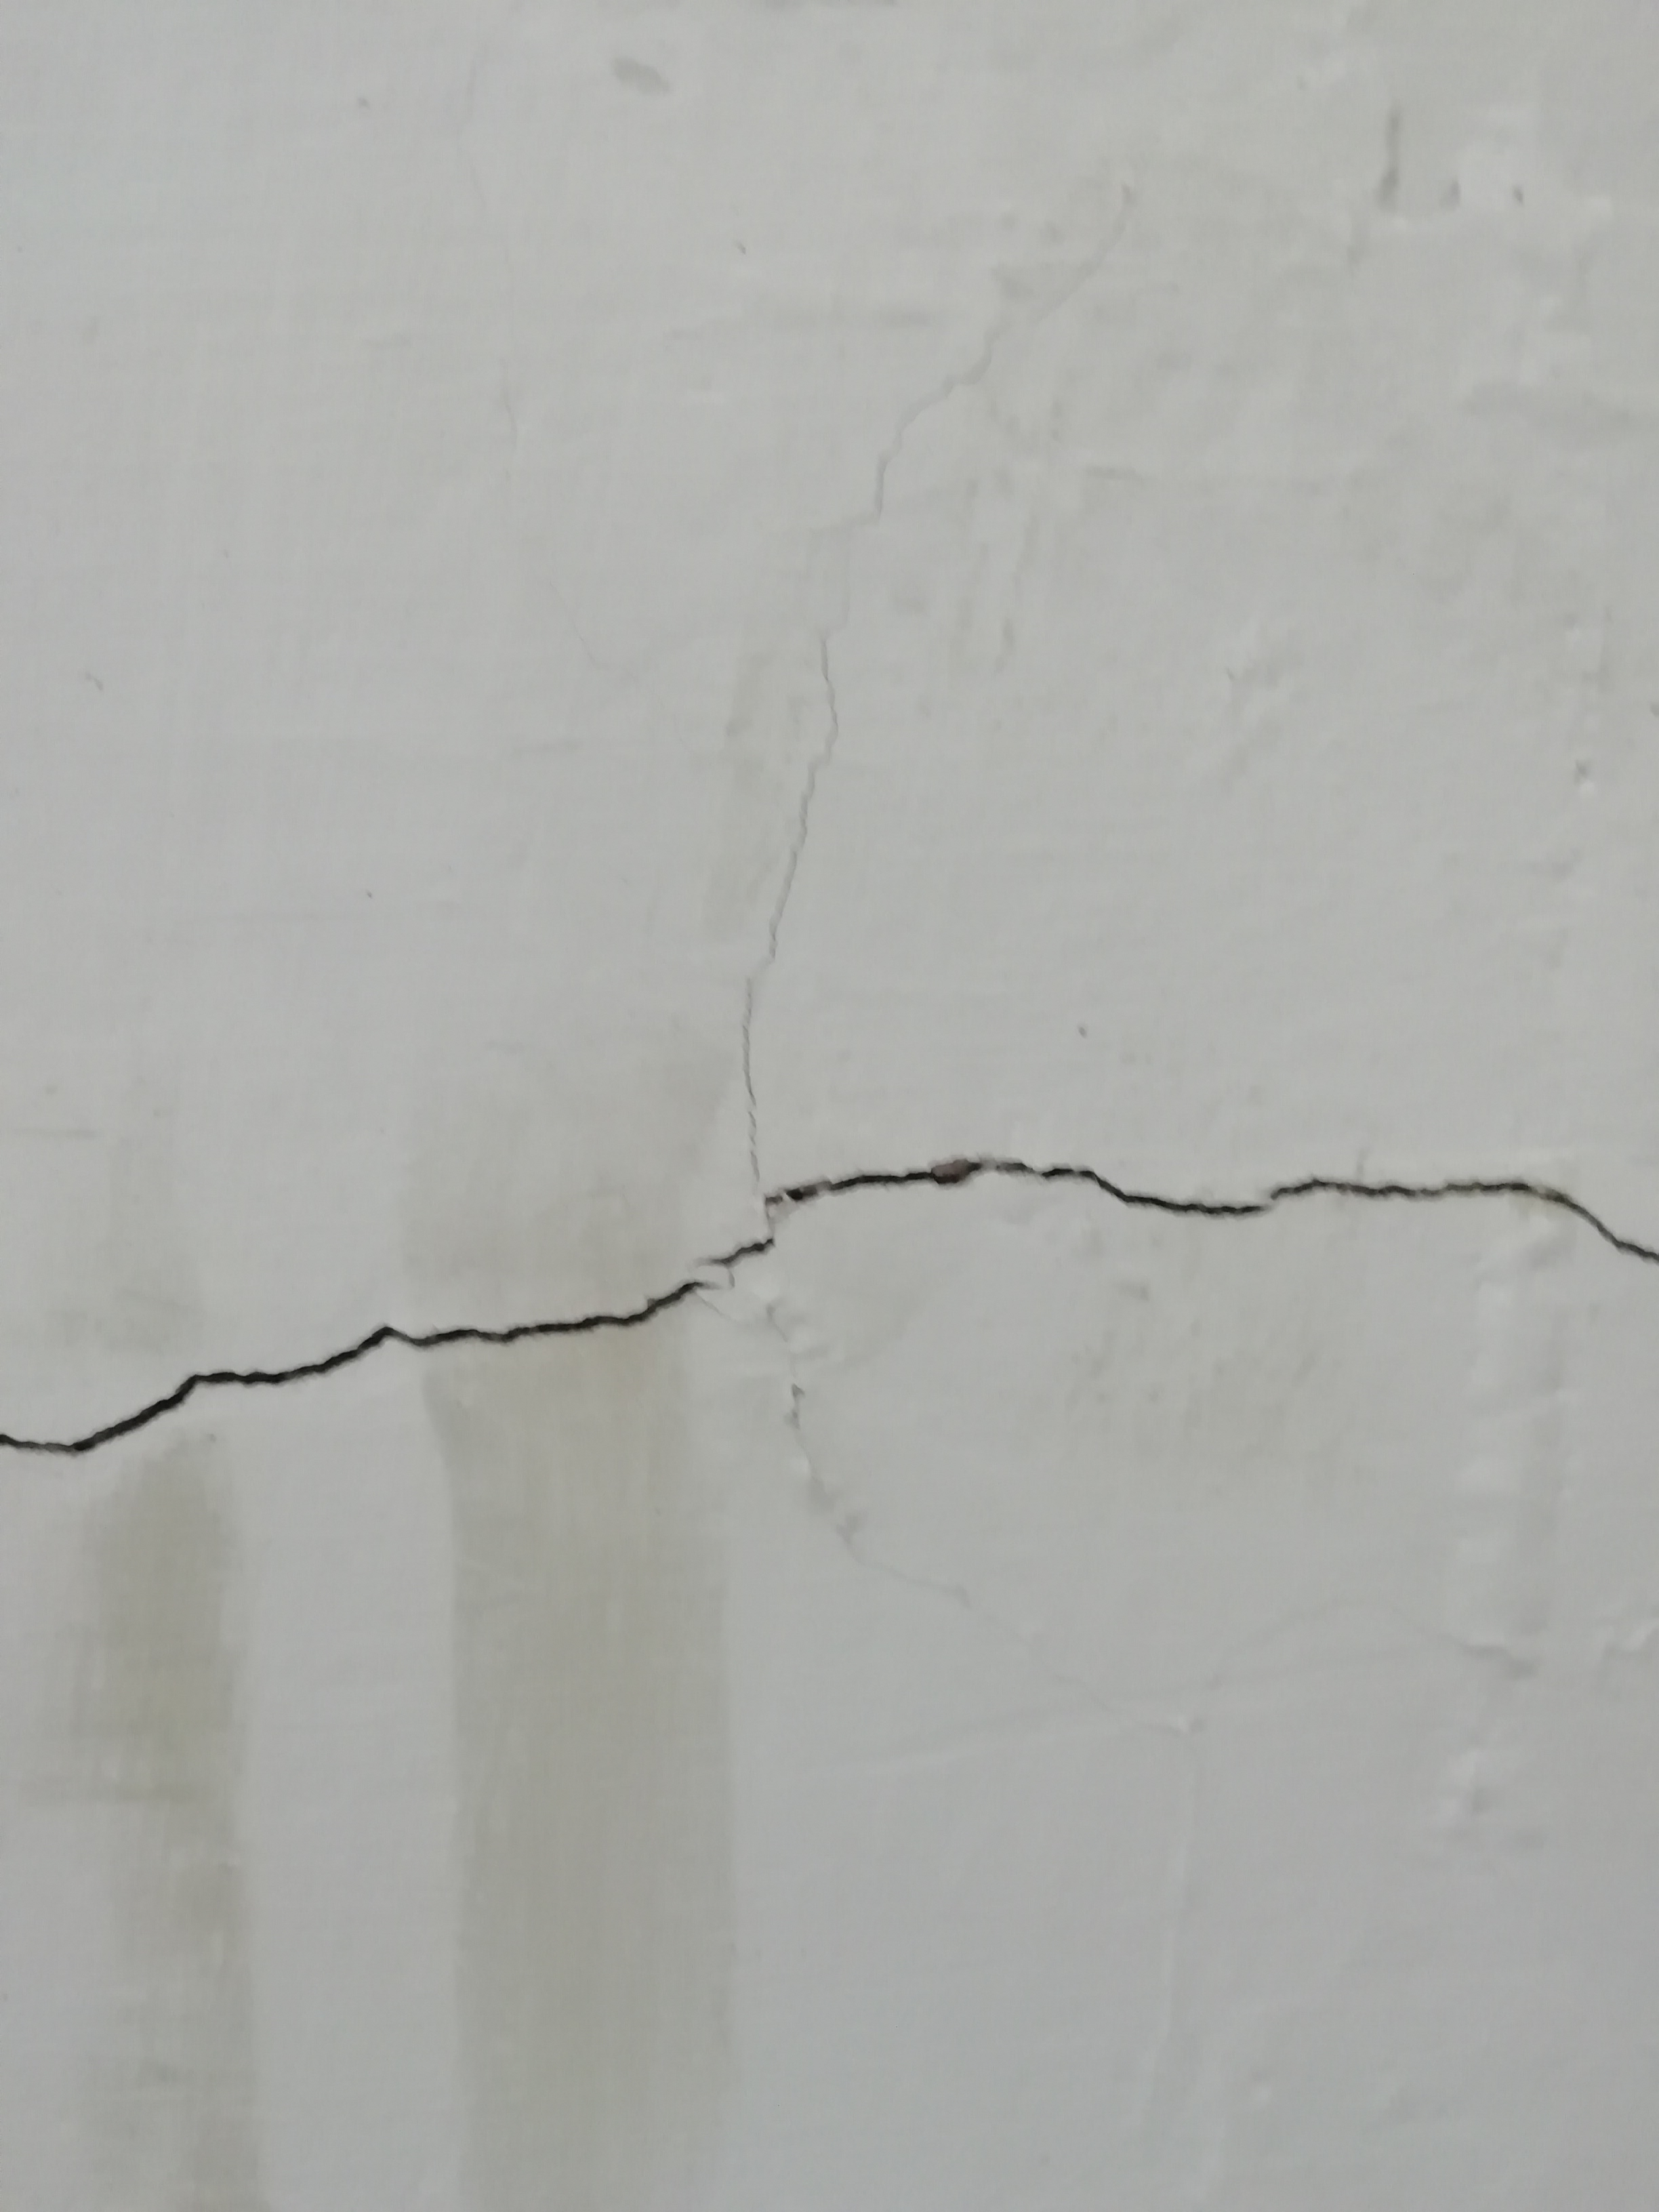Crack: (3, 1143, 1659, 1470)
